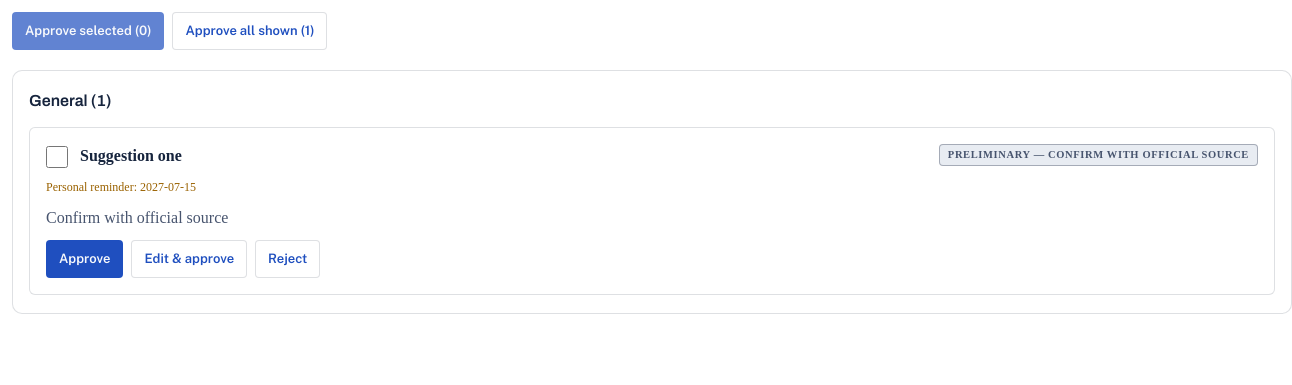
Test: keeps a failed rejection pending and permits a later retry
This screenshot has width=1292, height=385.
What coordinates should you click on to do the following:
click the button "Reject"
I would click on:
 (288, 259)
Its box is [255, 240, 320, 278].
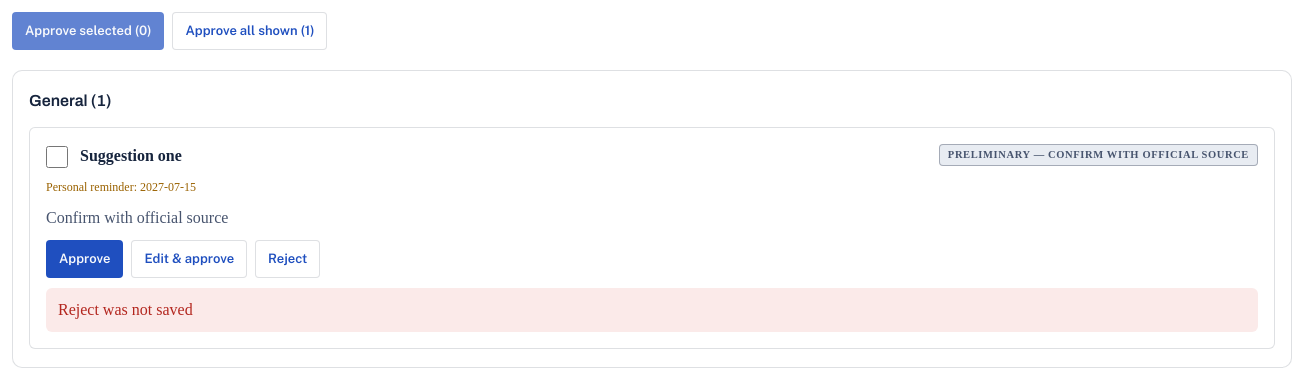
Check: the text "Reject was not saved" is shown, box [46, 288, 1258, 332]
What coordinates should you click on to do the following:
click the button "Reject"
I would click on:
 (288, 259)
Its box is [255, 240, 320, 278].
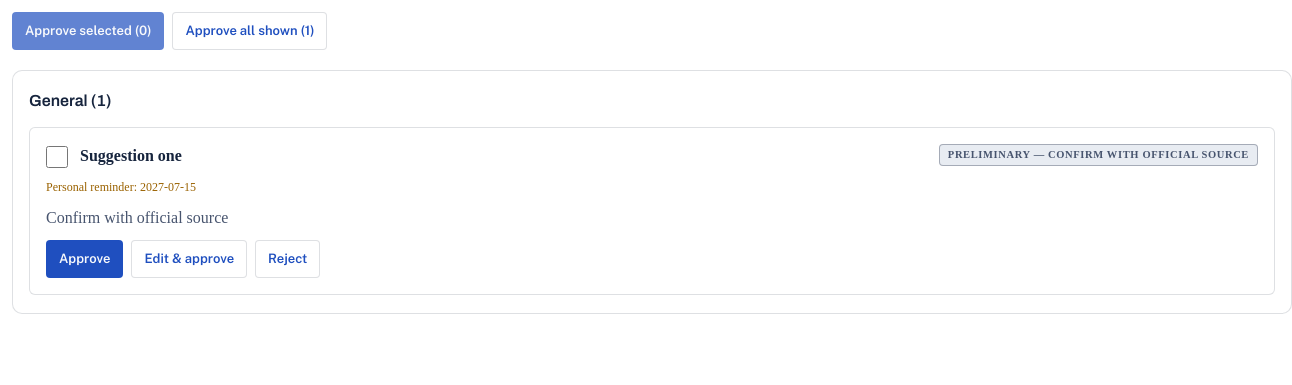
Check: the text "Reject was not saved" is gone
